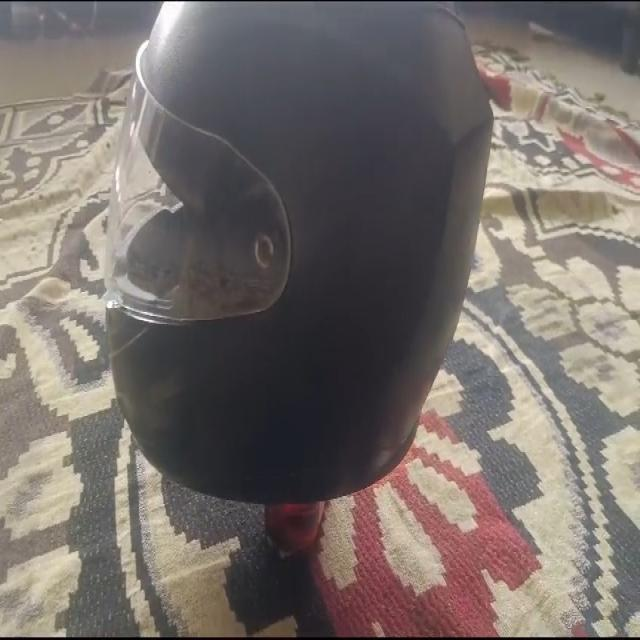Helmet: (104, 3, 495, 512)
